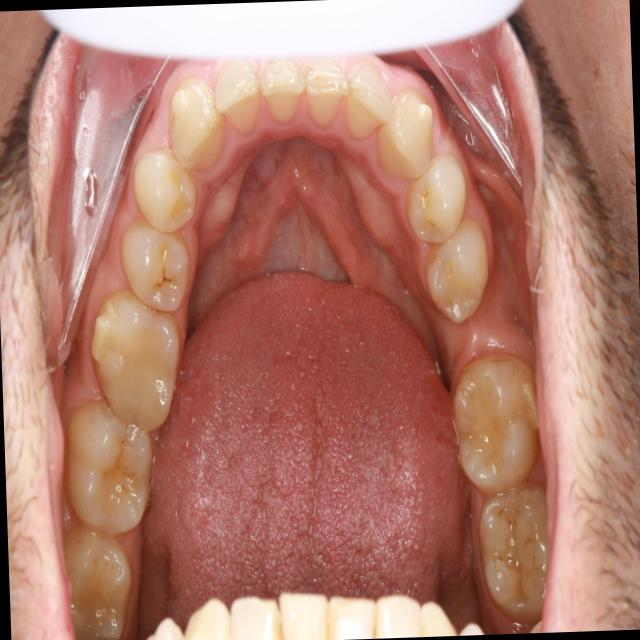tooth: (437, 337, 550, 497), (56, 391, 169, 547), (86, 280, 194, 439), (468, 468, 556, 631), (367, 66, 443, 196), (61, 512, 138, 640), (420, 217, 500, 332), (111, 213, 196, 321), (396, 145, 477, 256), (157, 73, 238, 177), (340, 50, 404, 170), (207, 47, 273, 157), (130, 145, 205, 241), (297, 49, 359, 151), (258, 52, 316, 141)
